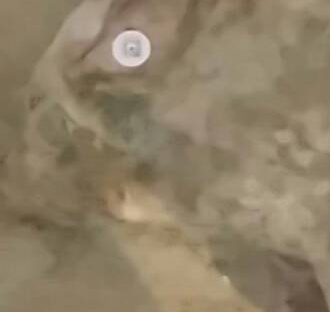text: (101, 11, 173, 79)
